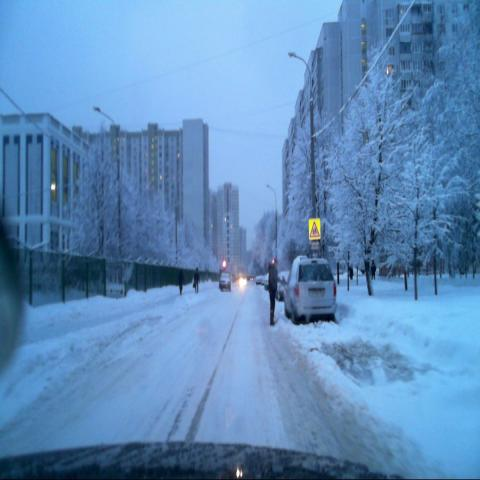1_23: (308, 219, 321, 241)
